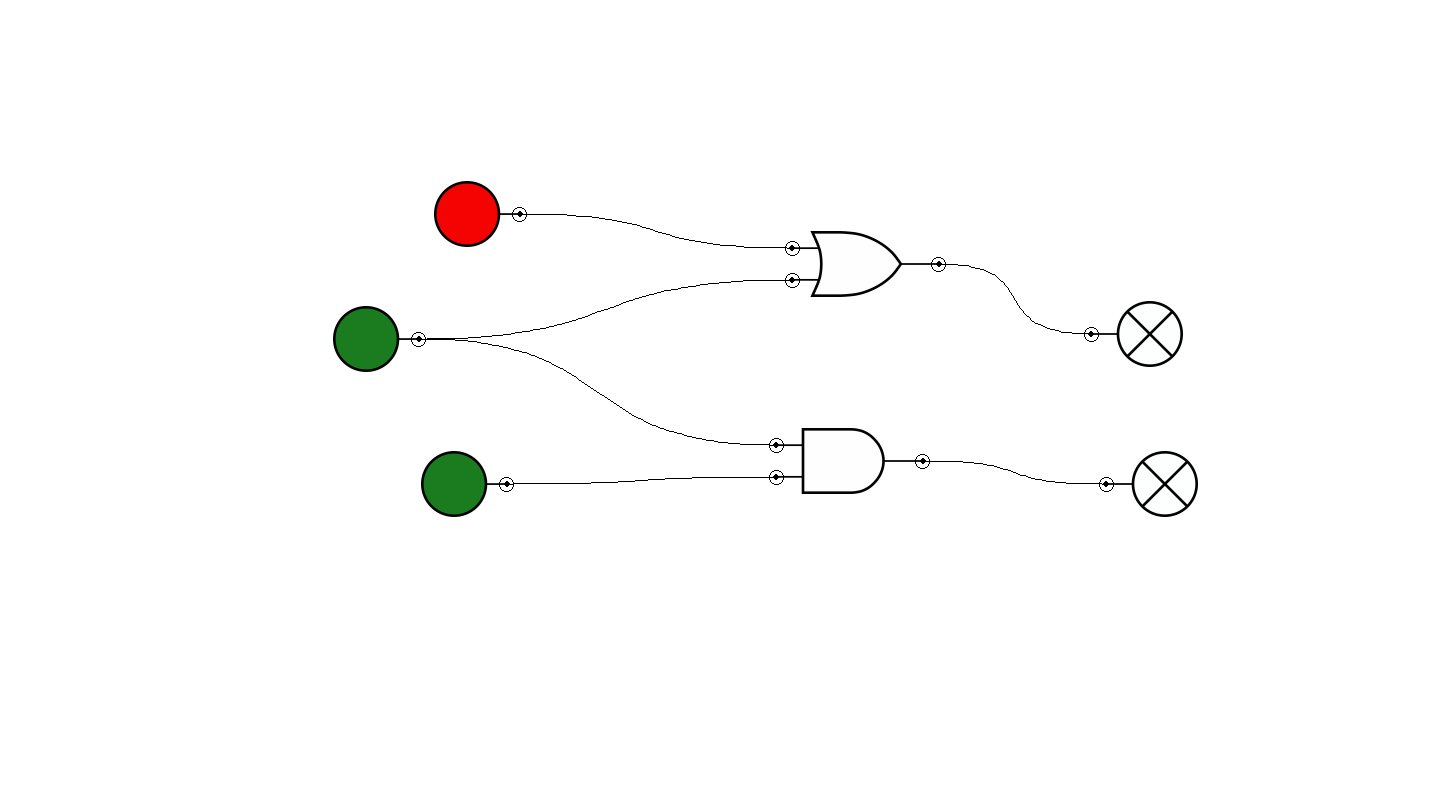and: (769, 428, 930, 494)
bulb: (1084, 301, 1183, 367), (1099, 451, 1198, 517)
or: (785, 231, 946, 297)
switch_False: (434, 181, 527, 247)
switch_True: (421, 451, 514, 517), (333, 306, 426, 372)
